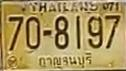0: (25, 16, 40, 49)
1: (75, 15, 80, 48)
7: (104, 14, 120, 48), (8, 16, 23, 50)
8: (54, 15, 68, 48)
9: (87, 15, 102, 48)
KRI: (35, 51, 95, 69)
